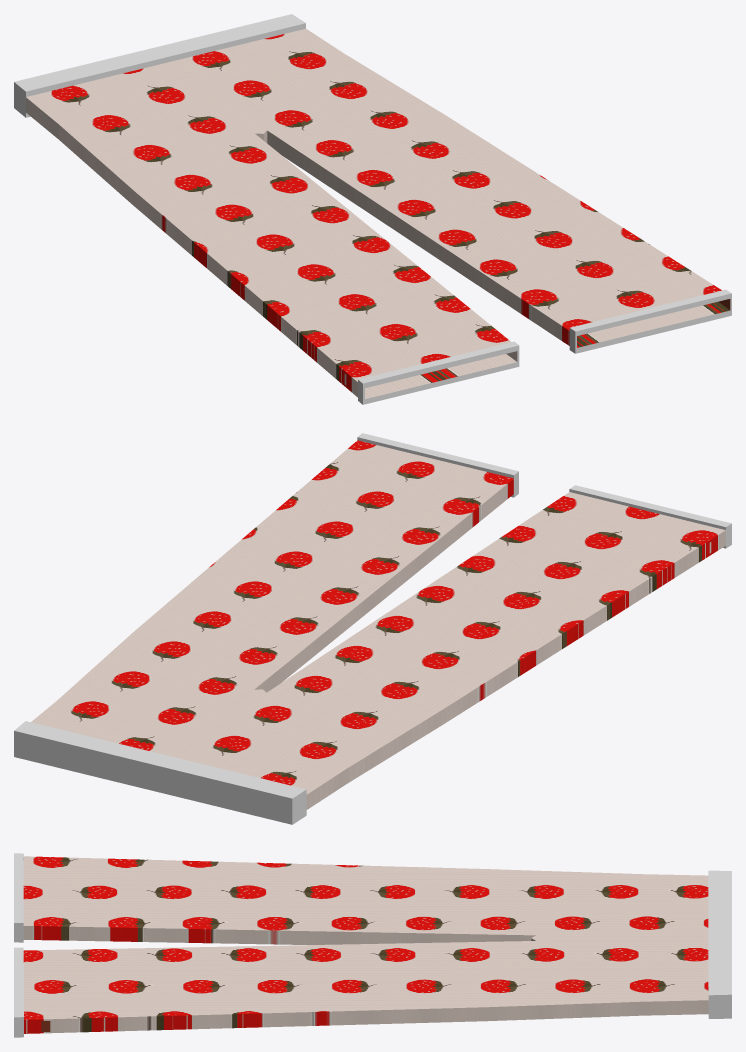
The model's file is pants9.fbx.
3 views of the same model, one above another, from view 1: azimuth 30°, elevation 25°; view 2: azimuth 150°, elevation 25°; view 3: azimuth 270°, elevation 25° (orthographic). The views are drawn at different scales.
Visible parts, largest first — view 1: pants9; view 2: pants9; view 3: pants9.
Part boxes in pixels (x1,y1,x2,y2): pants9: [14, 14, 731, 404]; pants9: [14, 433, 731, 824]; pants9: [14, 853, 731, 1037].
Bounding box in the file's own units: 0.504 × 0.0342 × 0.9314.
